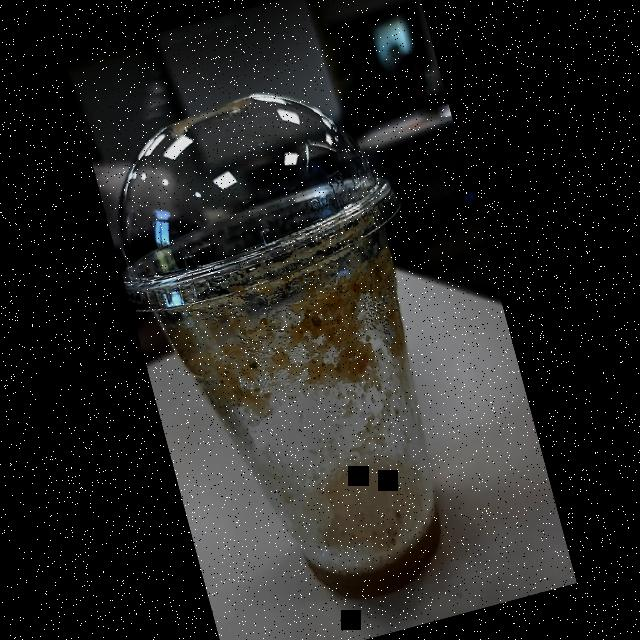plastic_cup: (74, 20, 512, 640)
plastic_cup_lid: (85, 64, 416, 328)
